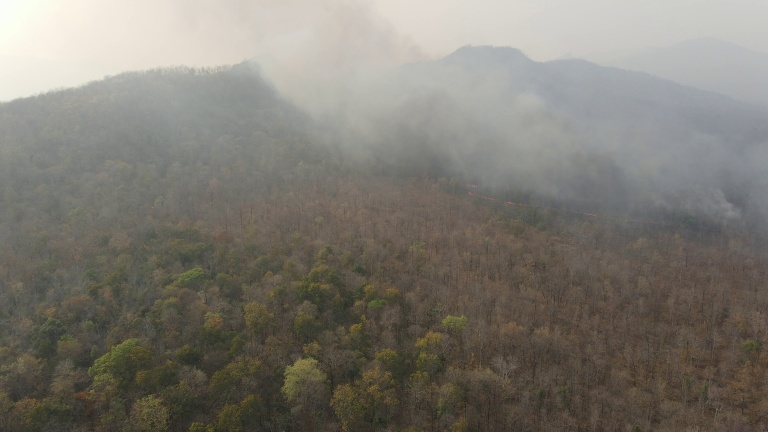fire: (461, 179, 524, 209), (571, 204, 603, 218)
smoke: (154, 1, 594, 205), (592, 104, 768, 222)
